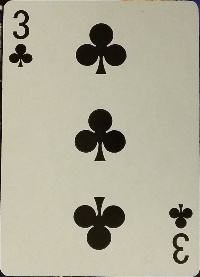C3: (169, 203, 193, 265), (9, 9, 33, 68)
